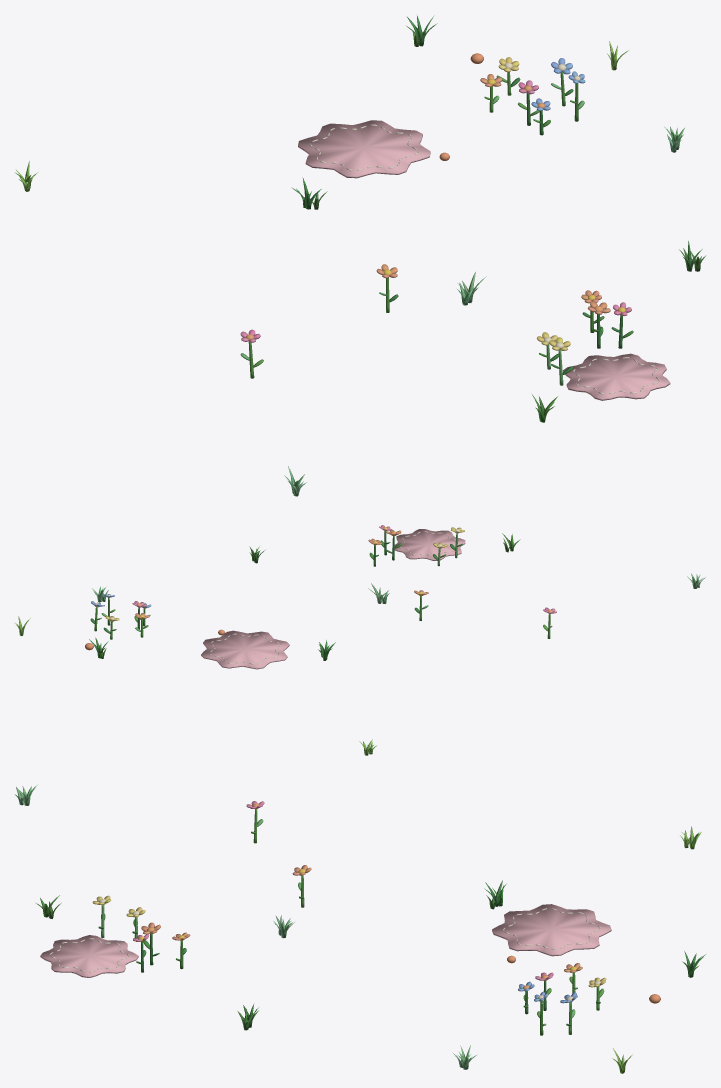
File: W4_FloraRing_8_11.fbx
3 views of the same model, one above another, from view 1: azimuth 30°, elevation 25°; view 2: azimuth 150°, elevation 25°; view 3: azimuth 270°, elevation 25° (orthographic). The views are drawn at different scales.
Parts seen in each view (by area): view 1: W4_FloraRing_8_11; view 2: W4_FloraRing_8_11; view 3: W4_FloraRing_8_11.
Part boxes in pixels (left/top/right/bottom): W4_FloraRing_8_11: left=14, top=15, right=706, bottom=496; W4_FloraRing_8_11: left=15, top=525, right=705, bottom=755; W4_FloraRing_8_11: left=14, top=784, right=705, bottom=1073.
Bounding box in the file's own units: 3.42 × 0.3724 × 3.43.
